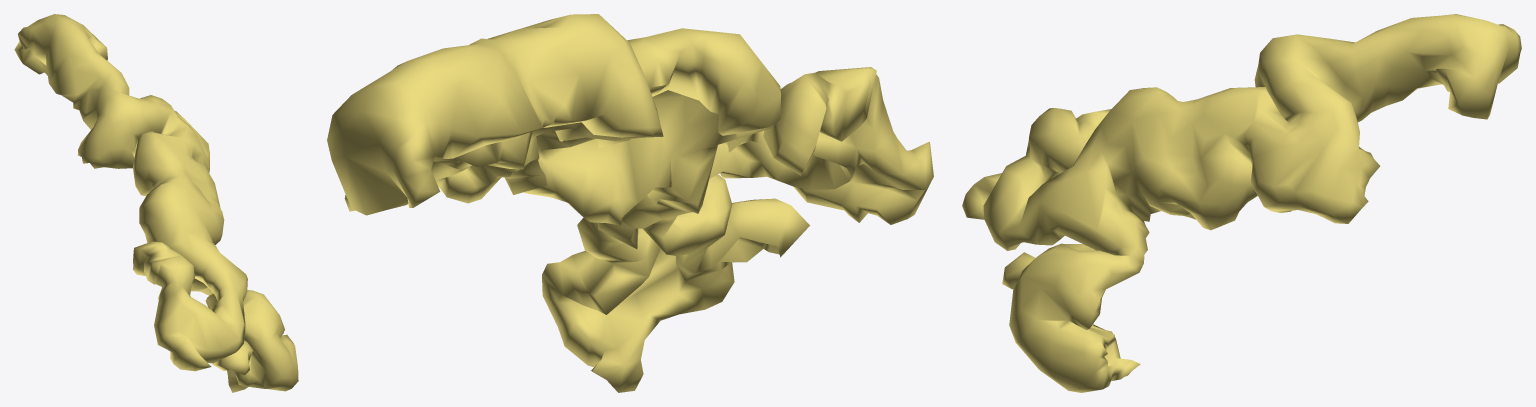
File: middle-frontal-gyrus-l.glb
The picture shows the model from 3 angles, left to right: view 1: azimuth 30°, elevation 25°; view 2: azimuth 150°, elevation 25°; view 3: azimuth 270°, elevation 25°; orthographic projection. The views are drawn at different scales.
Parts seen in each view (by area): view 1: Middle frontal gyrus.l; view 2: Middle frontal gyrus.l; view 3: Middle frontal gyrus.l.
Boxes of the visible parts, x1,y1,x2,y2 form: Middle frontal gyrus.l: (14,14,298,392); Middle frontal gyrus.l: (327,14,933,392); Middle frontal gyrus.l: (962,14,1521,392).
Bounding box in the file's own units: 0.0393 × 0.0616 × 0.091.
